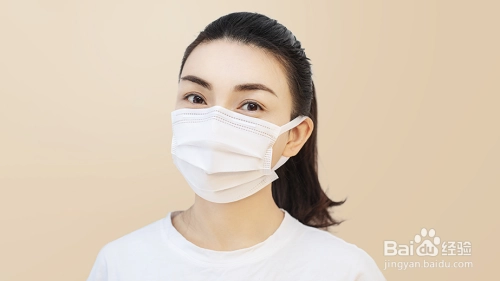withmask: (157, 4, 335, 224)
